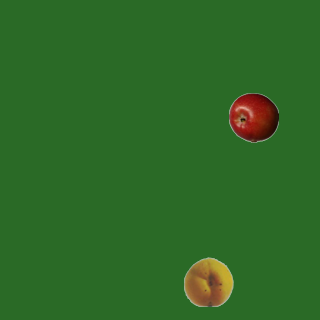Apple Braeburn: (228, 92, 278, 142)
Peach 2: (183, 256, 233, 306)
